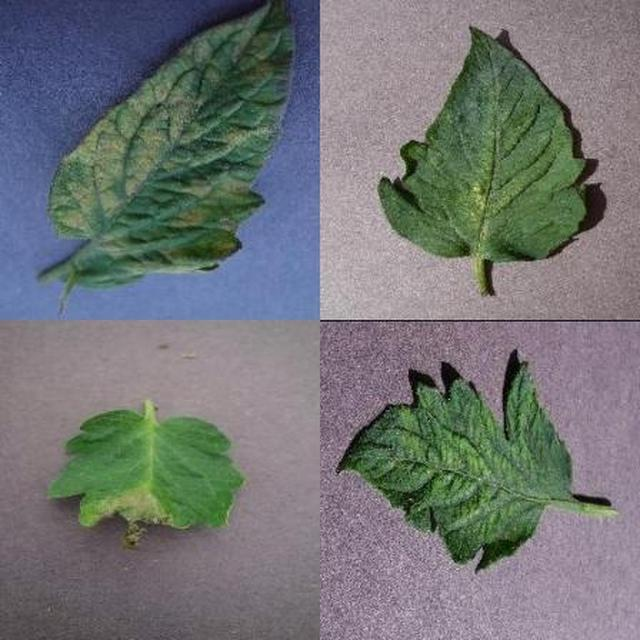Leaf Mold: (210, 204, 640, 640)
